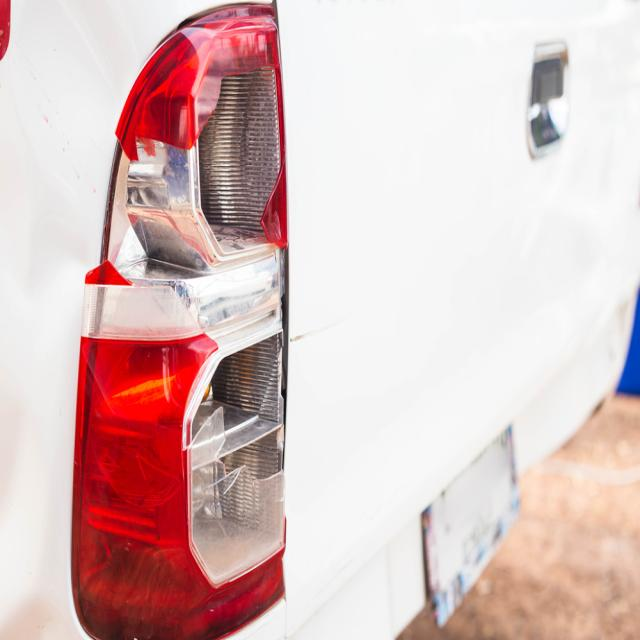Phare abime: (70, 5, 293, 627)
